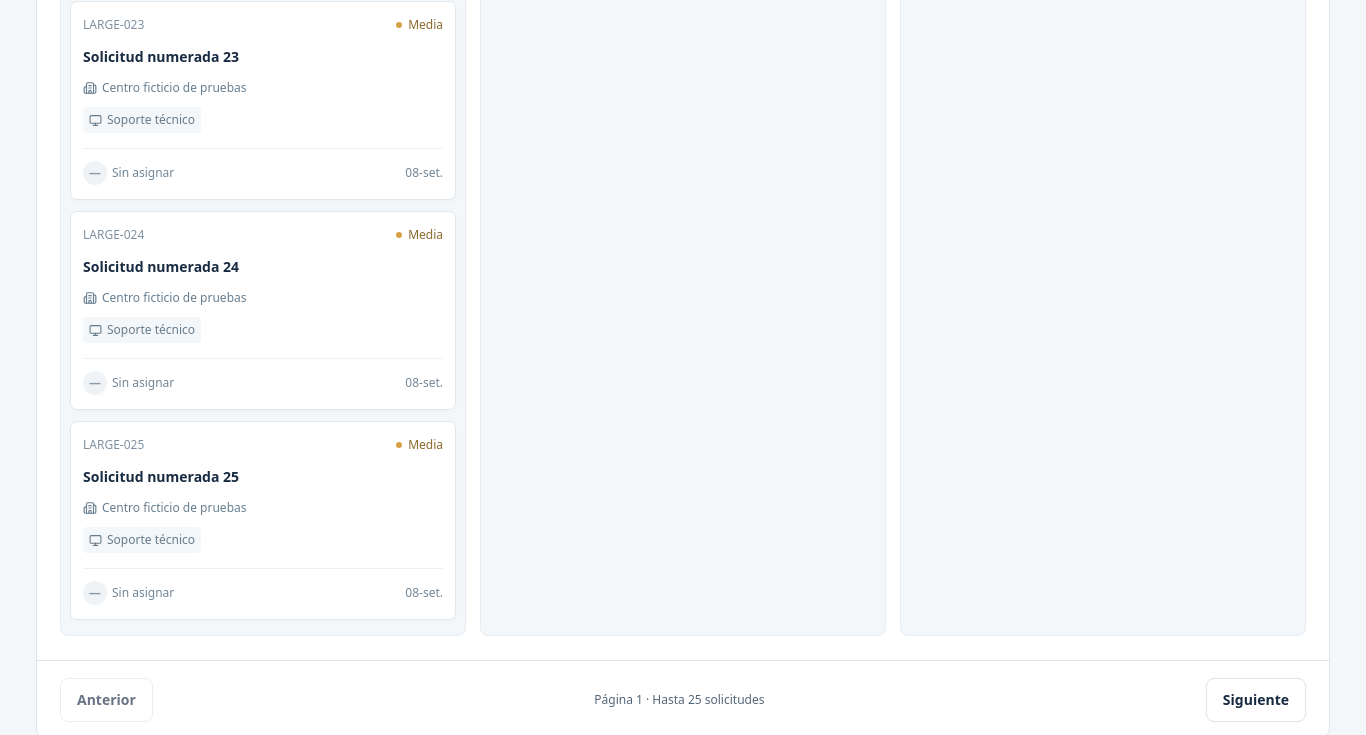
it: pagina más de 100 registros y aplica búsqueda y filtros en el servidor desde página uno
(page scrolled)
Click the button "Siguiente" at [1256, 700], box [1206,678,1306,722]
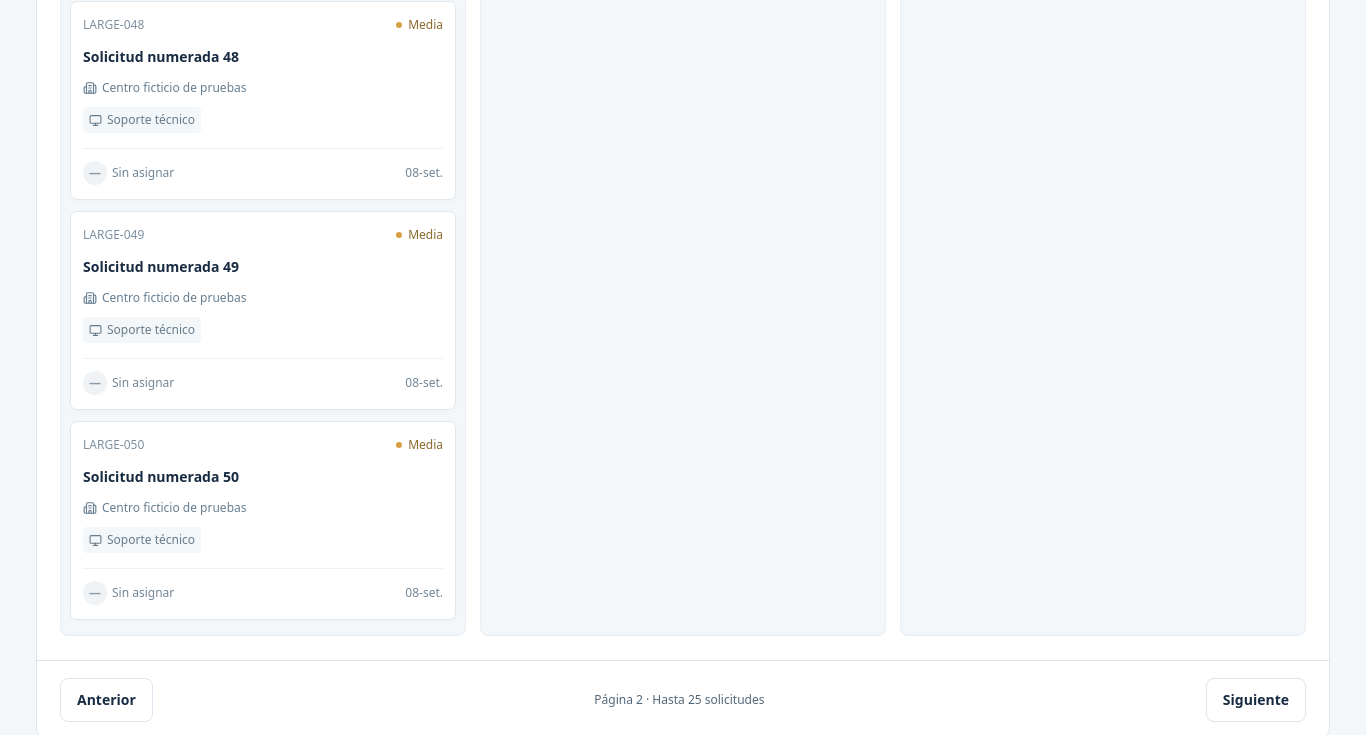
Click the button "Siguiente" at [1256, 700], box [1206,678,1306,722]
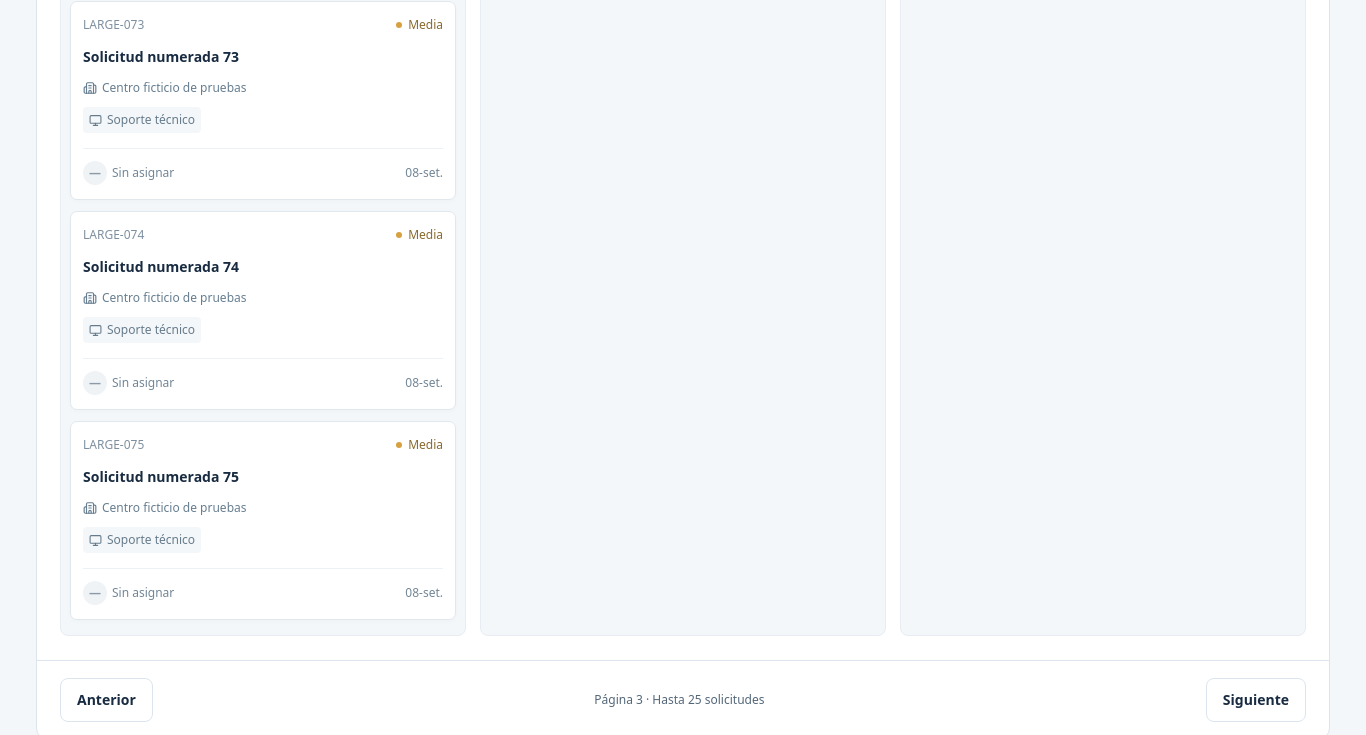
Click the button "Siguiente" at [1256, 700], box [1206,678,1306,722]
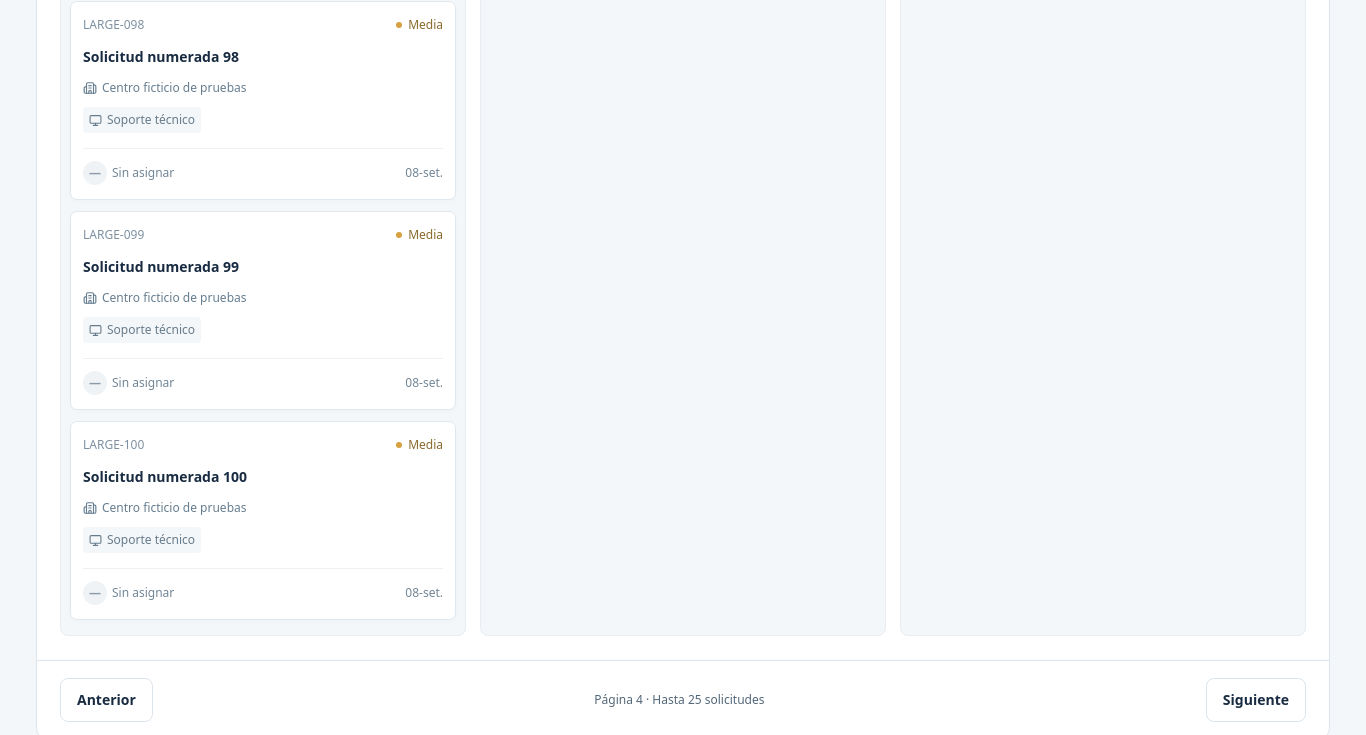
Click the button "Siguiente" at [1256, 700], box [1206,678,1306,722]
(page scrolled)
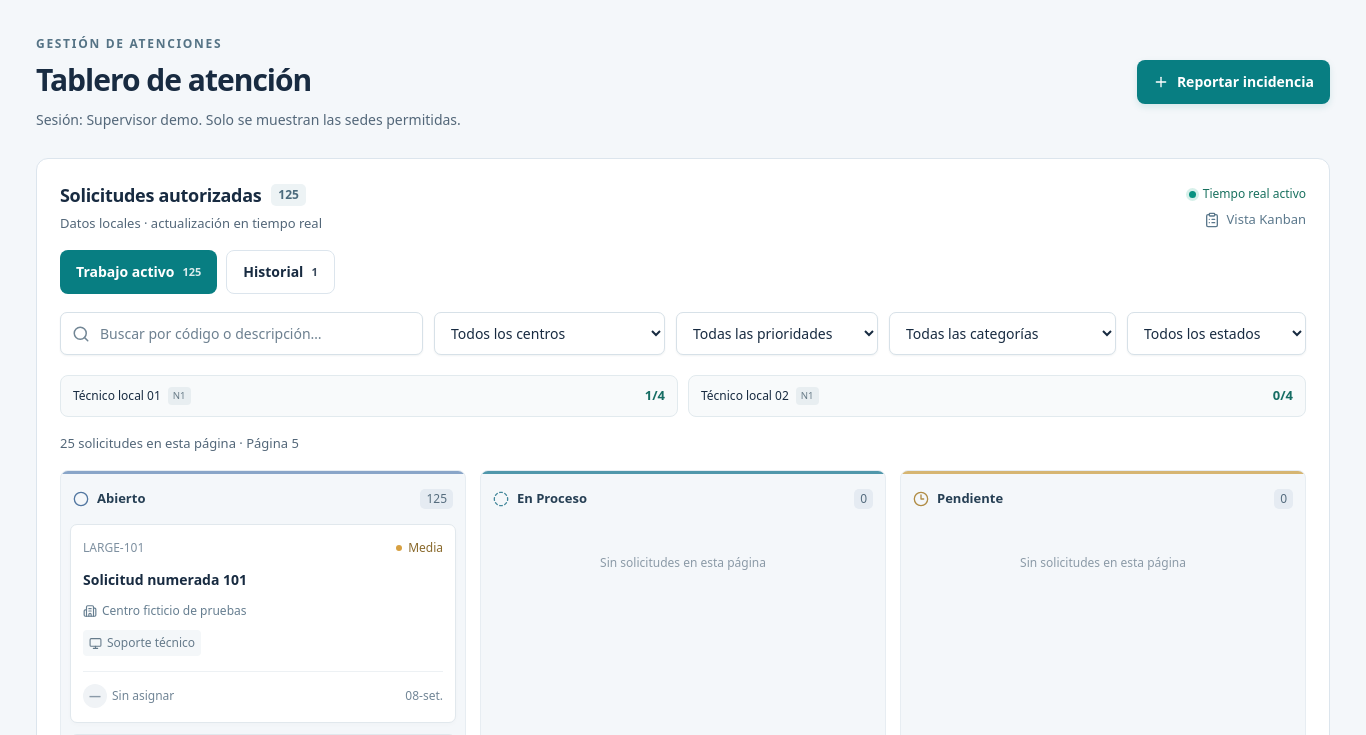
Now the button with aria-label "Ver LARGE-101" is shown, box [70,524,456,723]
Type "LARGE-120" into the field named "Buscar solicitudes" at [242, 334], box [60,312,423,355]
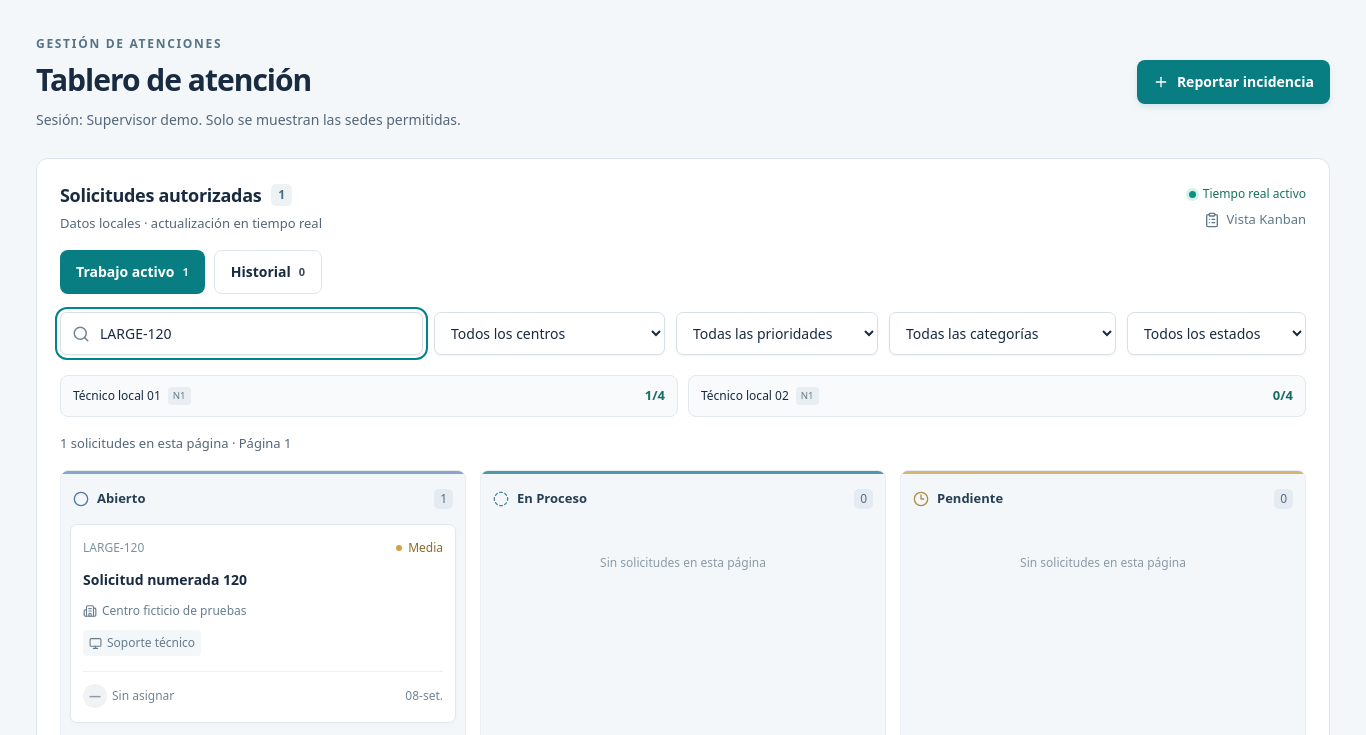
Now the number of buttons named "Ver LARGE" is 1, box [70,524,456,723]
Select "Infraestructura" in the dropdown named "Filtrar por categoría" at [1002, 334], box [889,312,1116,355]
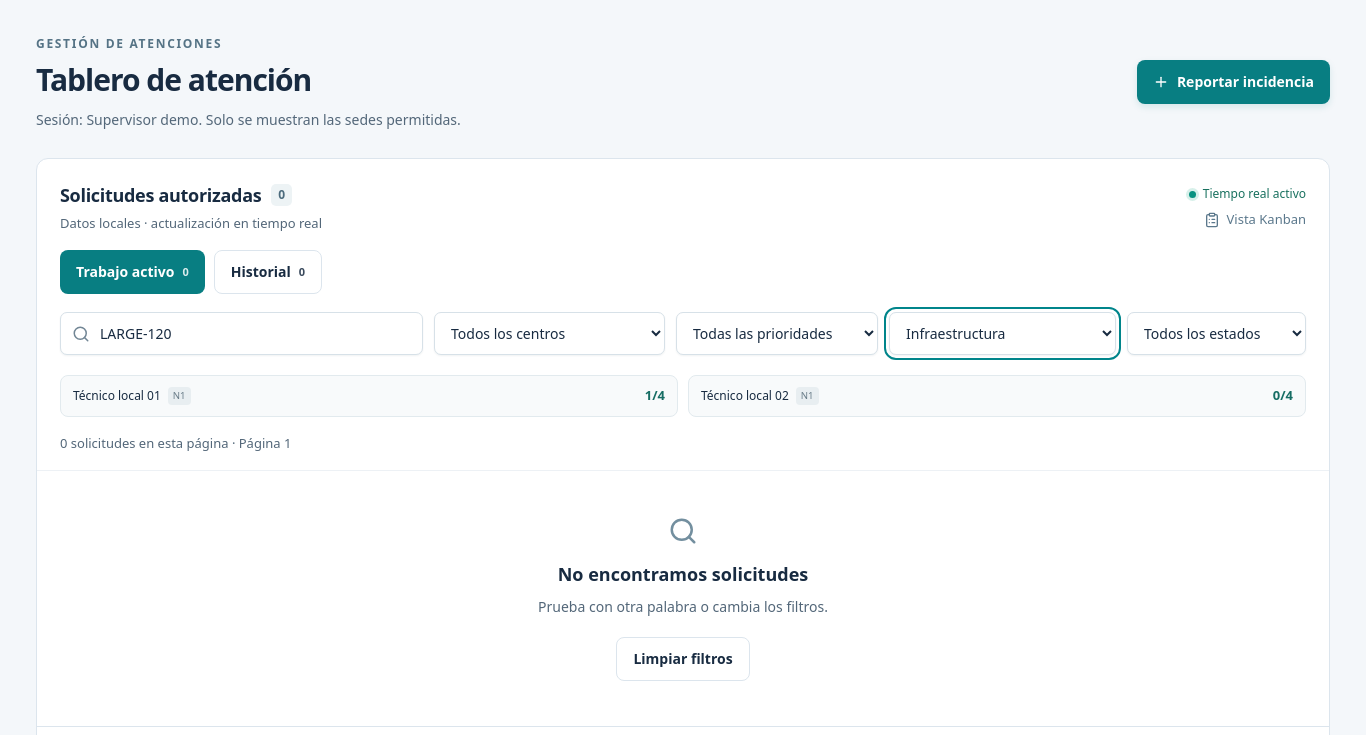
Now the heading "No encontramos solicitudes" is shown, box [558,562,808,586]
